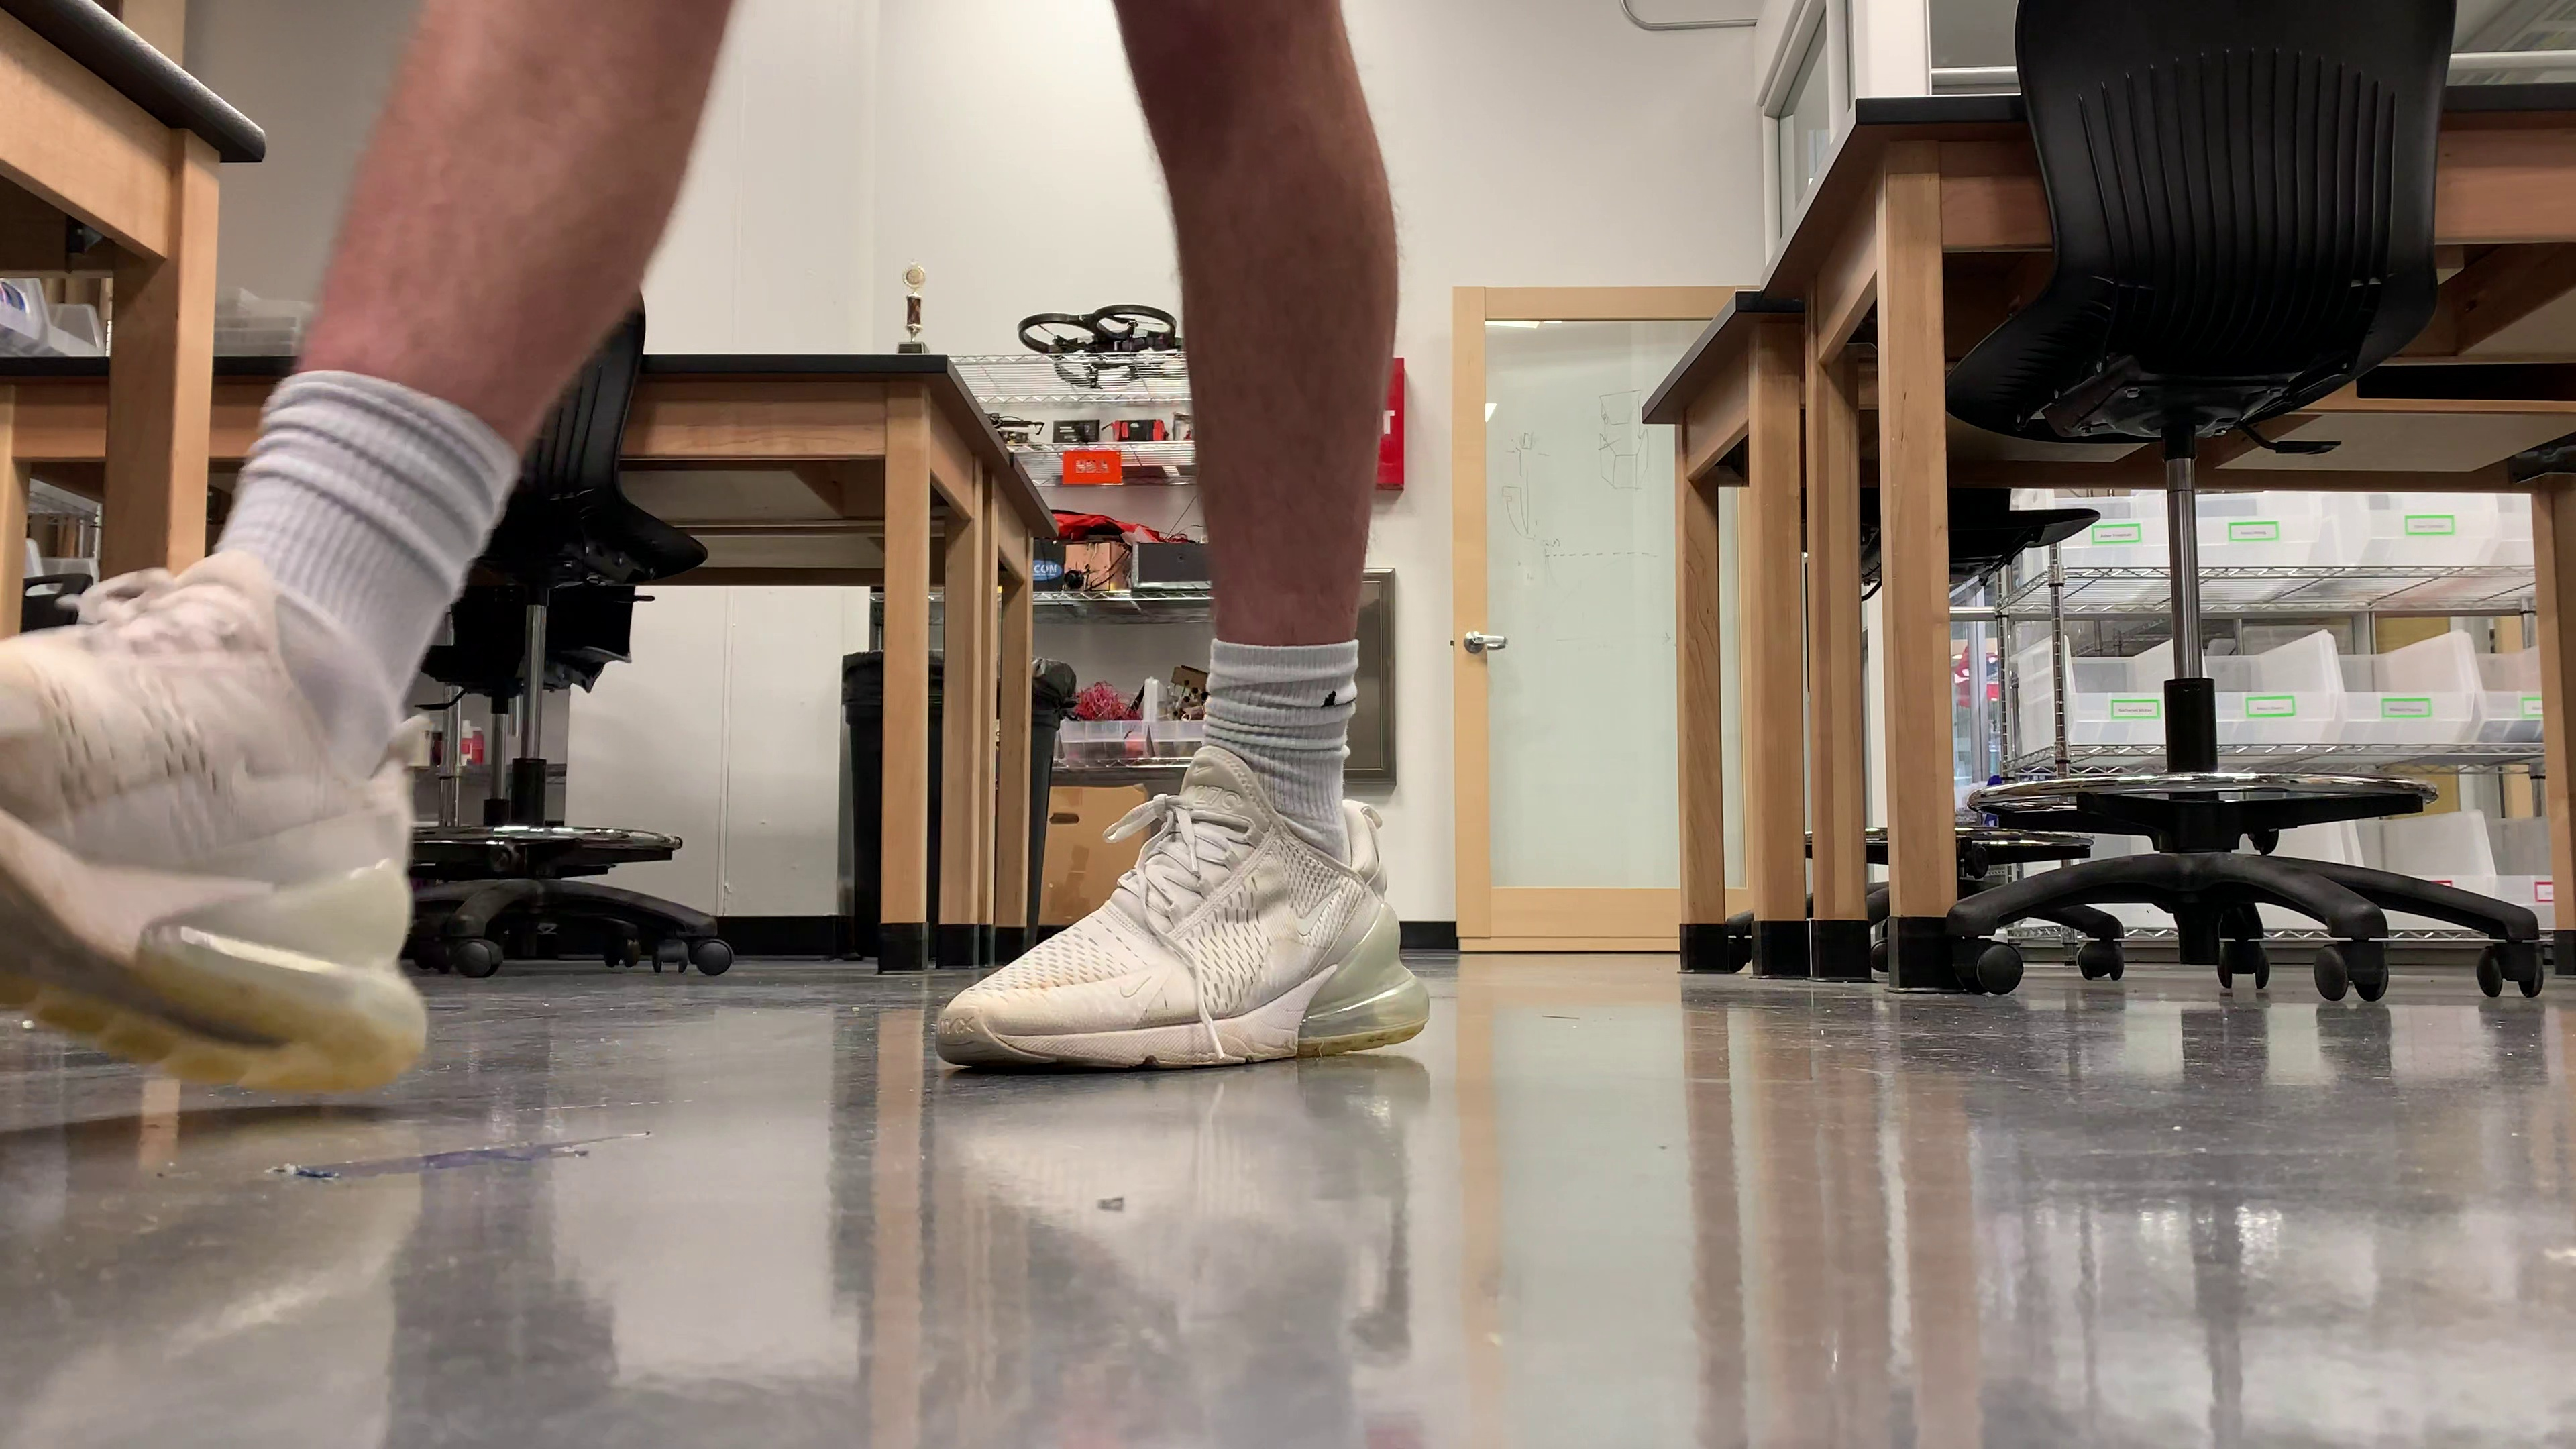shoe: (0, 547, 428, 1092), (936, 747, 1430, 1072)
